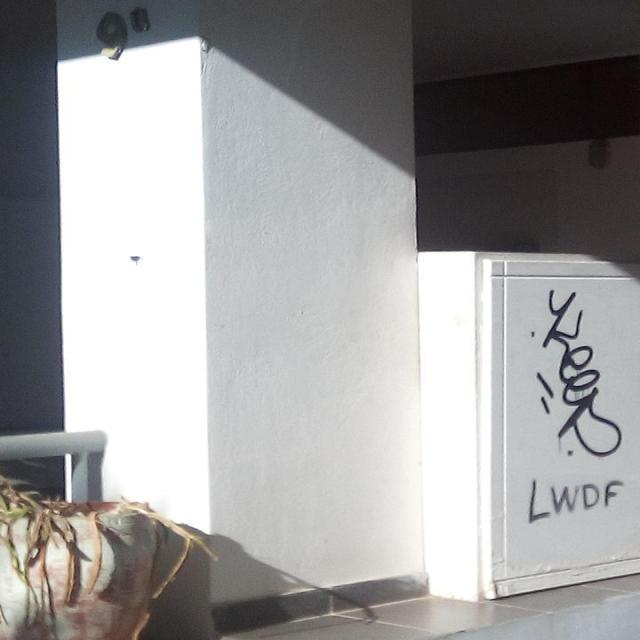nonspitting: (530, 288, 624, 457), (526, 477, 622, 522)
